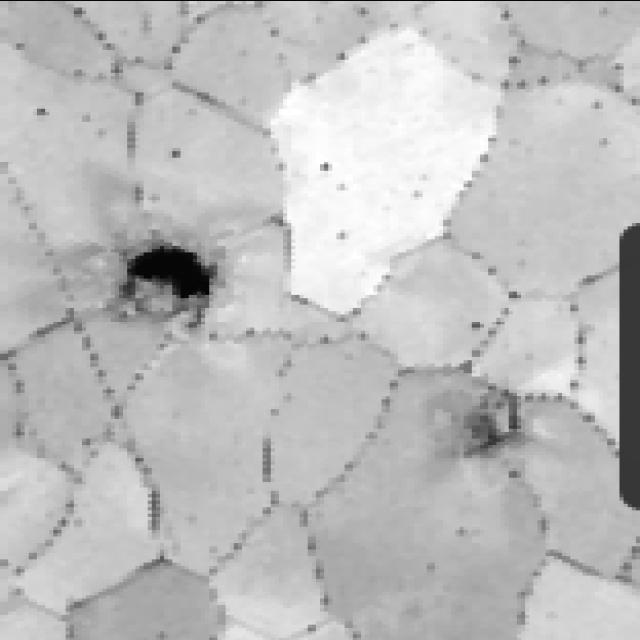good_void: (70, 189, 248, 335), (436, 376, 524, 473), (28, 97, 56, 117), (161, 142, 188, 161), (312, 158, 336, 177), (464, 317, 486, 335), (329, 226, 350, 243), (311, 331, 332, 346), (589, 98, 607, 113)
